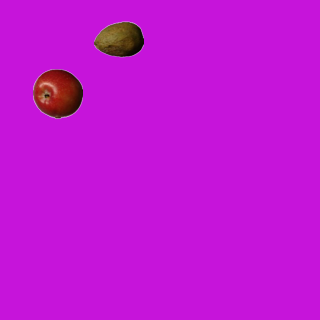Apple Braeburn: (32, 68, 82, 118)
Papaya: (93, 14, 143, 64)
